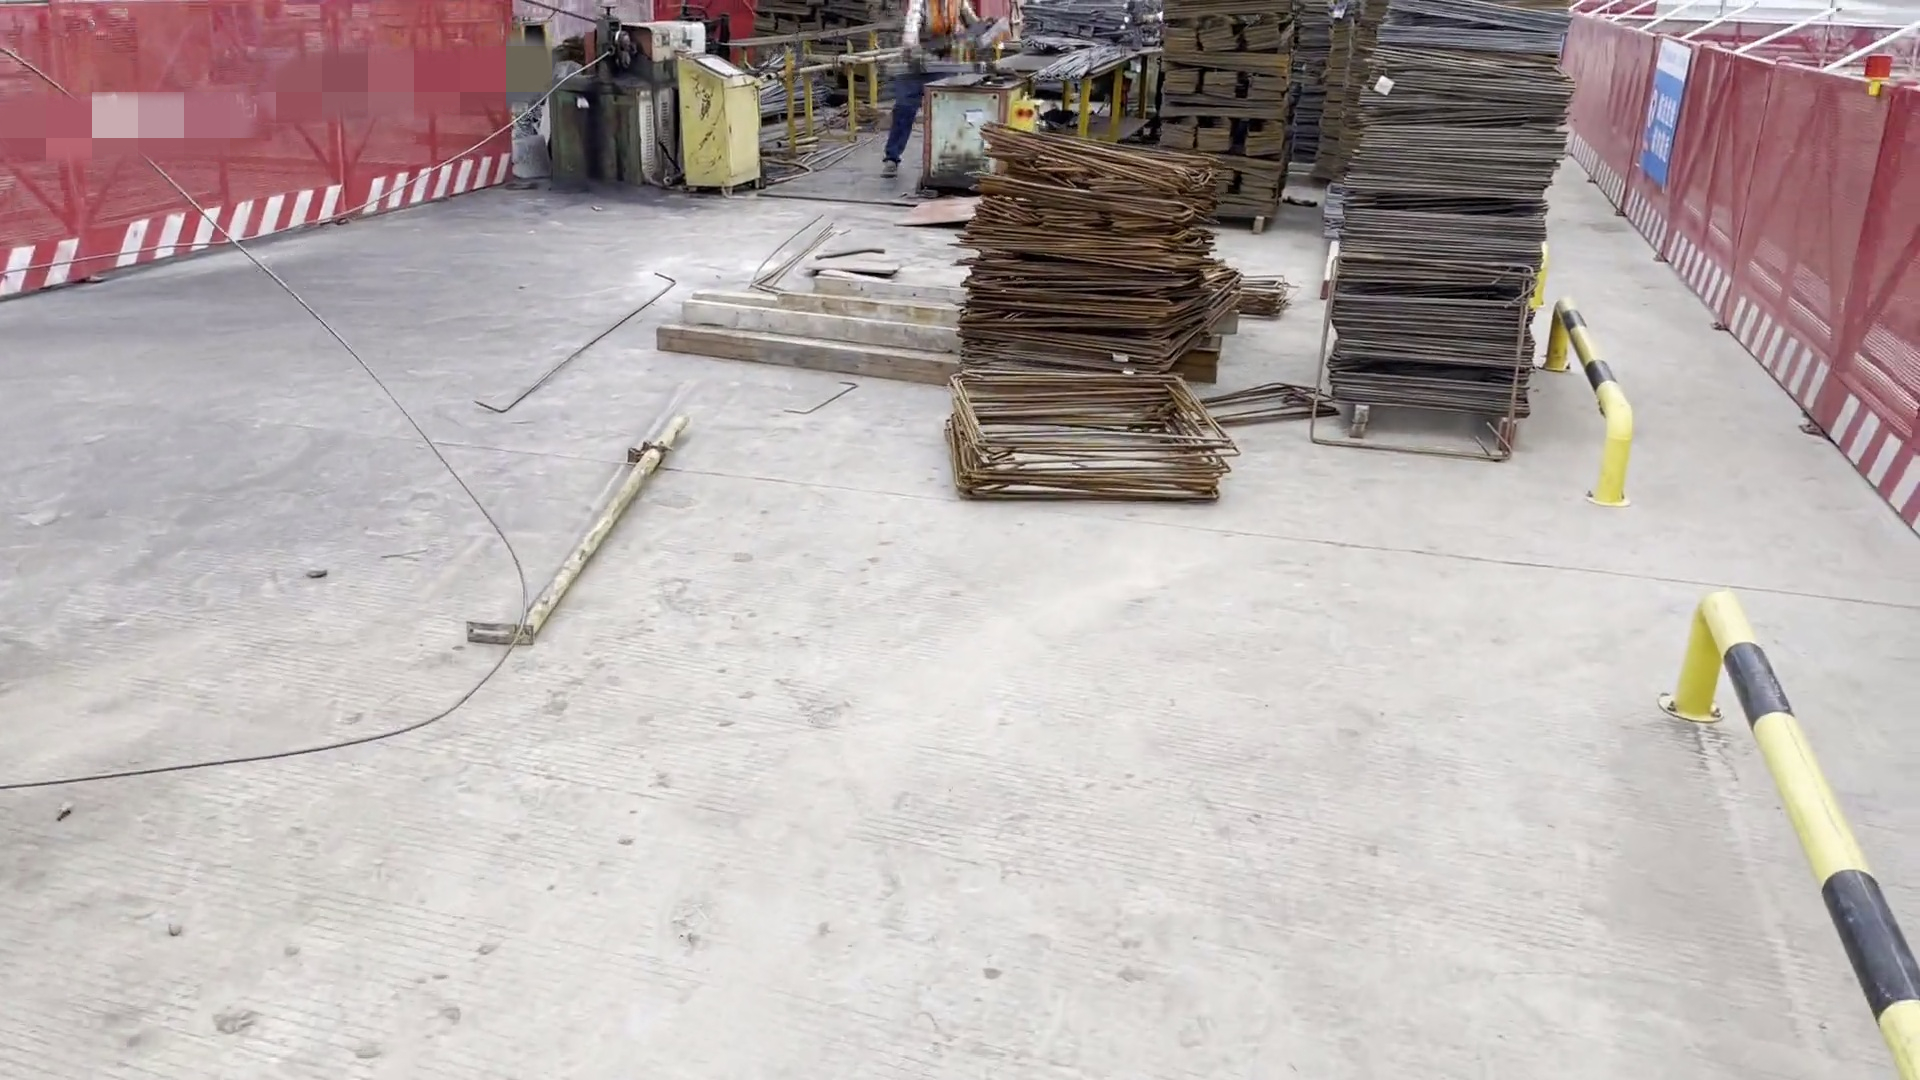cutter: (910, 68, 1033, 196)
ebox: (656, 47, 773, 197)
fence: (1571, 11, 1920, 541), (1, 1, 515, 314)
person: (874, 1, 971, 181)
slogan: (1622, 34, 1706, 199)
vest: (891, 1, 986, 69)
